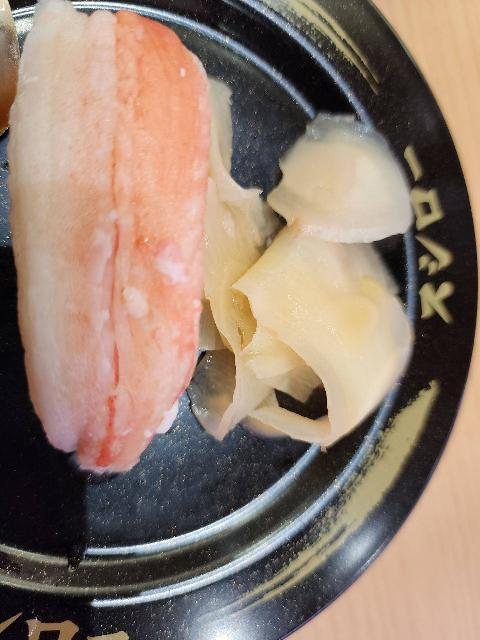janback: (0, 451, 367, 640), (403, 121, 480, 587), (228, 0, 480, 129)
